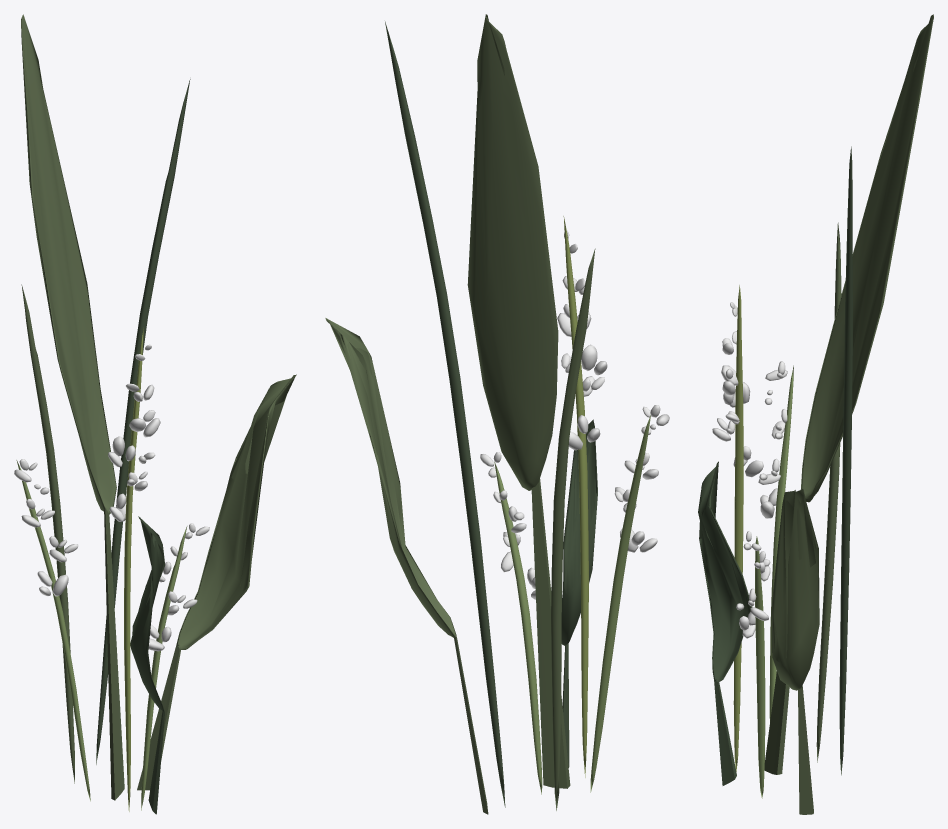
File: Flower White.fbx
The picture shows the model from 3 angles, left to right: view 1: azimuth 30°, elevation 25°; view 2: azimuth 150°, elevation 25°; view 3: azimuth 270°, elevation 25°; orthographic projection. The views are drawn at different scales.
Parts seen in each view (by area): view 1: White_Flower; view 2: White_Flower; view 3: White_Flower.
Part boxes in pixels (<box>): White_Flower: <box>14,14,296,814</box>; White_Flower: <box>325,14,669,814</box>; White_Flower: <box>698,14,933,814</box>.
Bounding box in the file's own units: 15.92 × 39.51 × 10.96.
